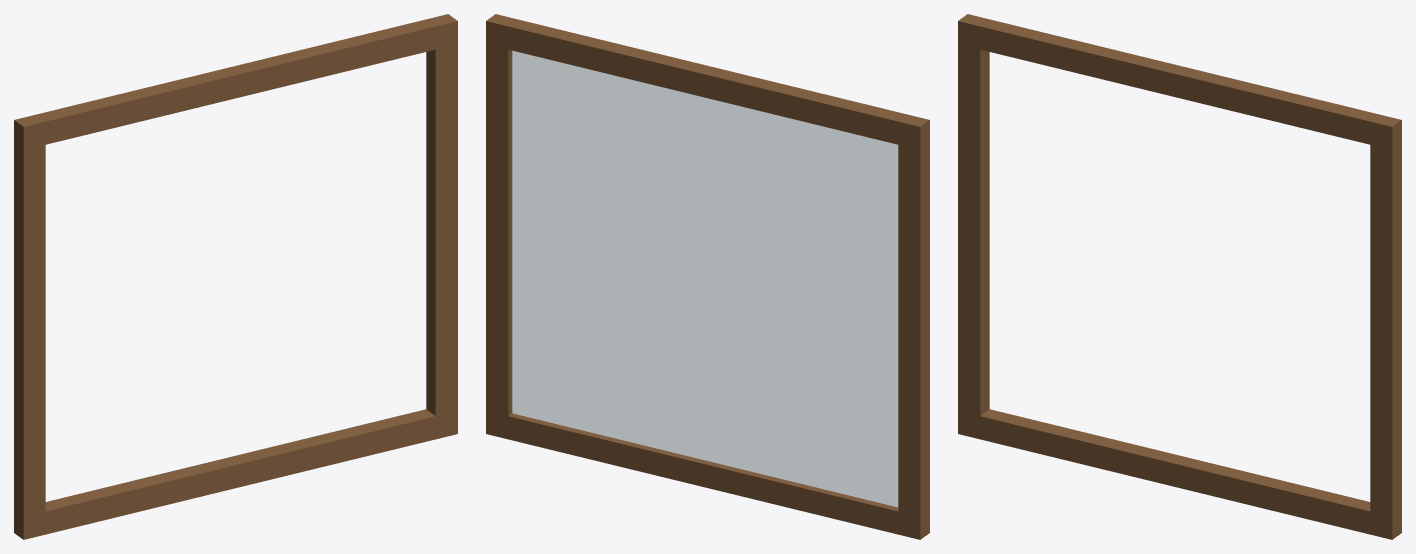
File: mirror.glb
3 views of the same model, side by side, from view 1: azimuth 30°, elevation 25°; view 2: azimuth 150°, elevation 25°; view 3: azimuth 330°, elevation 25° (orthographic).
Parts seen in each view (by area): view 1: mirror; view 2: mirror; view 3: mirror.
Boxes of the visible parts, x1=… form: mirror: x1=14, y1=14, x2=457, y2=539; mirror: x1=486, y1=14, x2=929, y2=539; mirror: x1=958, y1=14, x2=1401, y2=539.
Size of the model in its own units: 3.14 by 2.85 by 0.12.
